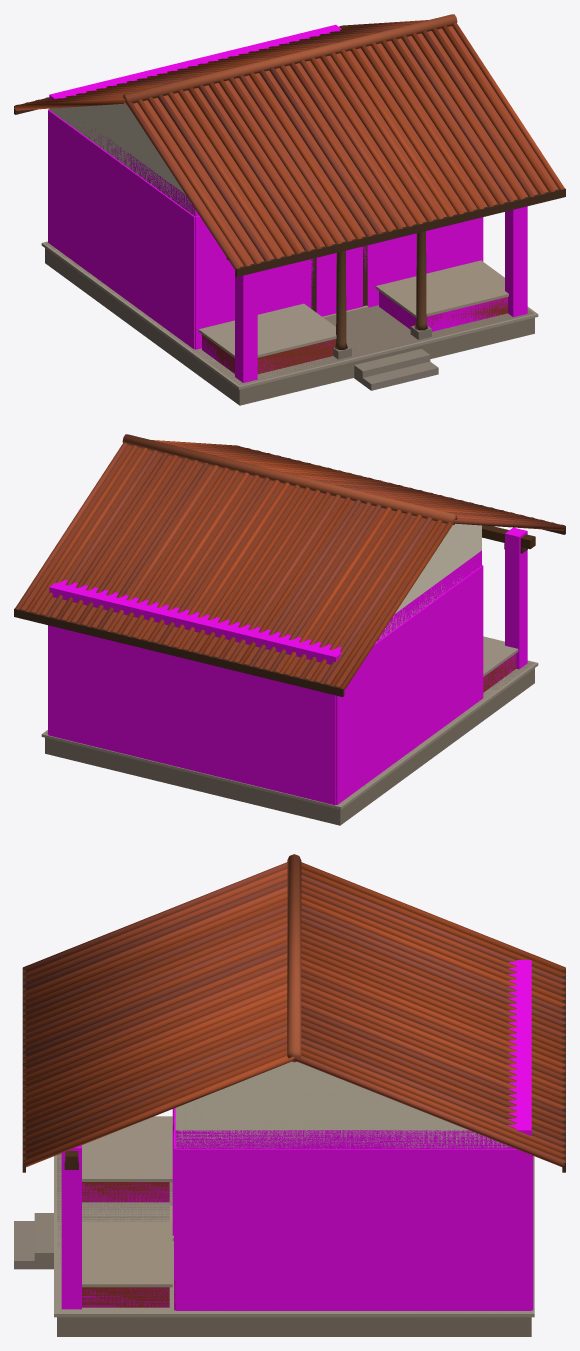
The model's file is ENV_House_Player_A.glb.
3 renders of one model, top to bottom at view 1: azimuth 30°, elevation 25°; view 2: azimuth 150°, elevation 25°; view 3: azimuth 270°, elevation 25°, orthographic. The views are drawn at different scales.
Parts seen in each view (by area): view 1: ENV_House_Player_A_Mesh, COL_WallSide_-1, COL_WallFront_-1, COL_WallFront_1, COL_Ceiling, COL_Post_-3.2, COL_Post_3.2, COL_DOOR_Main, WALK_Thinnai_1, WALK_Thinnai_-1; view 2: ENV_House_Player_A_Mesh, COL_WallBack, COL_WallSide_-1, COL_Ceiling, COL_Post_-3.2; view 3: ENV_House_Player_A_Mesh, COL_WallSide_1, COL_Ceiling, COL_Post_3.2, WALK_Thinnai_-1, WALK_Thinnai_1.
Boxes of the visible parts, <box> form: ENV_House_Player_A_Mesh: <box>14,14,565,405</box>; COL_WallSide_-1: <box>48,110,195,349</box>; COL_WallFront_-1: <box>195,216,314,349</box>; COL_WallFront_1: <box>363,217,482,307</box>; COL_Ceiling: <box>49,24,341,216</box>; COL_Post_-3.2: <box>235,270,257,382</box>; COL_Post_3.2: <box>505,206,527,317</box>; COL_DOOR_Main: <box>316,246,362,316</box>; WALK_Thinnai_1: <box>379,291,507,331</box>; WALK_Thinnai_-1: <box>202,336,335,373</box>; ENV_House_Player_A_Mesh: <box>14,434,565,825</box>; COL_WallBack: <box>48,625,335,805</box>; COL_WallSide_-1: <box>336,565,483,804</box>; COL_Ceiling: <box>49,550,481,664</box>; COL_Post_-3.2: <box>505,527,527,669</box>; ENV_House_Player_A_Mesh: <box>14,854,565,1336</box>; COL_WallSide_1: <box>175,1149,531,1310</box>; COL_Ceiling: <box>175,960,531,1148</box>; COL_Post_3.2: <box>61,1145,81,1309</box>; WALK_Thinnai_-1: <box>82,1182,169,1202</box>; WALK_Thinnai_1: <box>82,1287,169,1307</box>.
Bounding box in the file's own units: 7.83 × 5.53 × 9.31.
